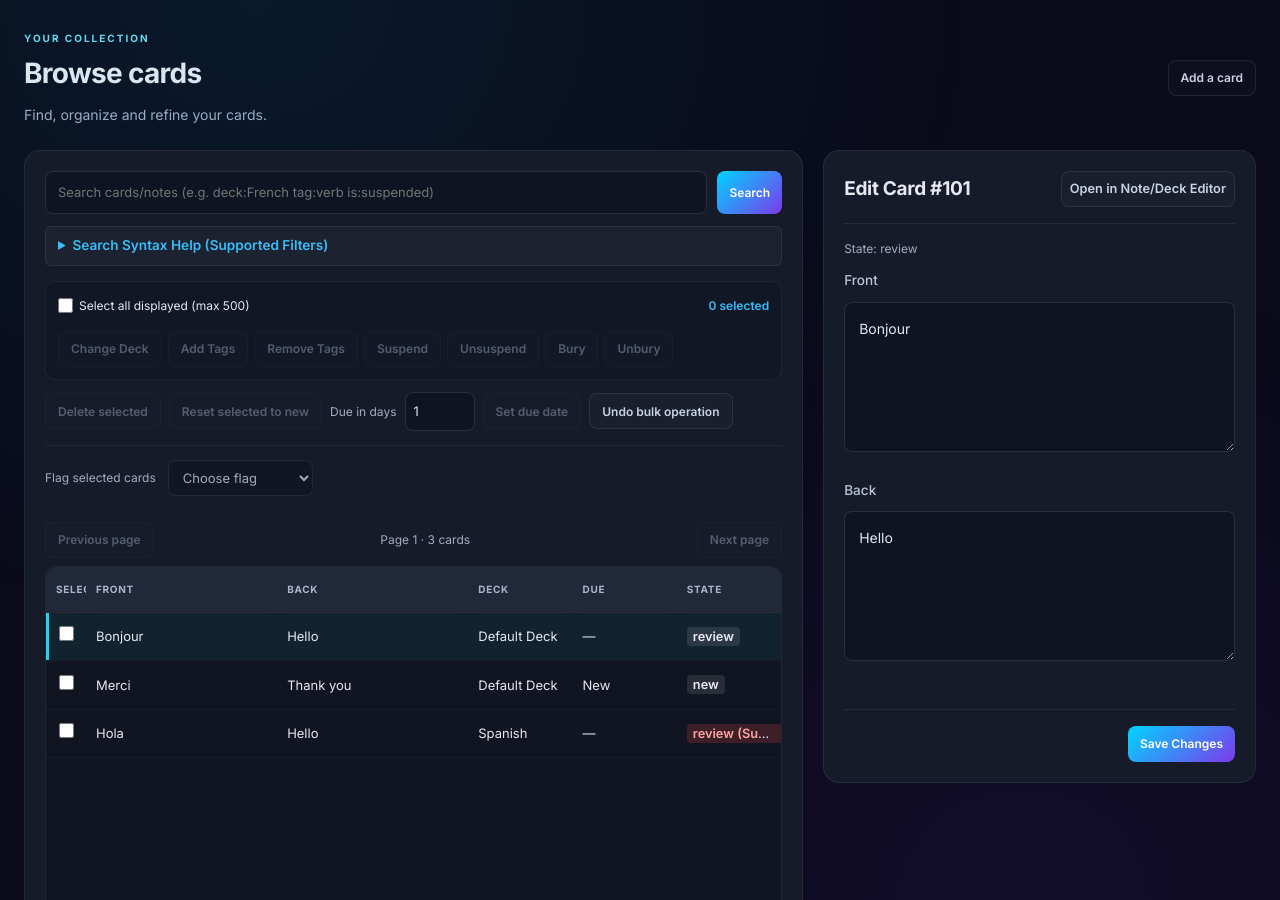
Scenario: BrowsePage › clears selection when a new search is performed
Click the checkbox named "Select card 101". click: [66, 634]
box: [58, 626, 74, 641]
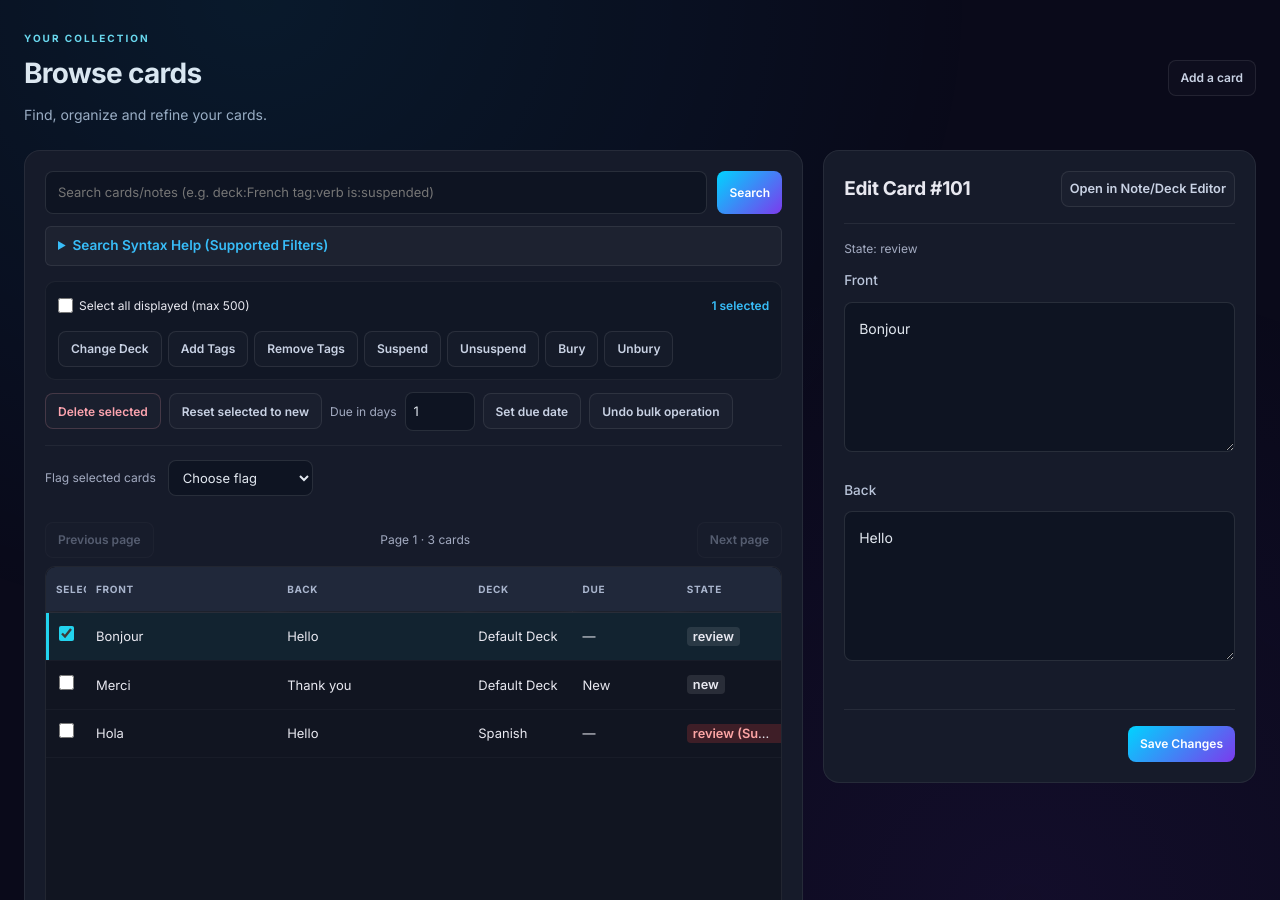
Click the checkbox named "Select card 102". click: [66, 682]
box: [58, 674, 74, 690]
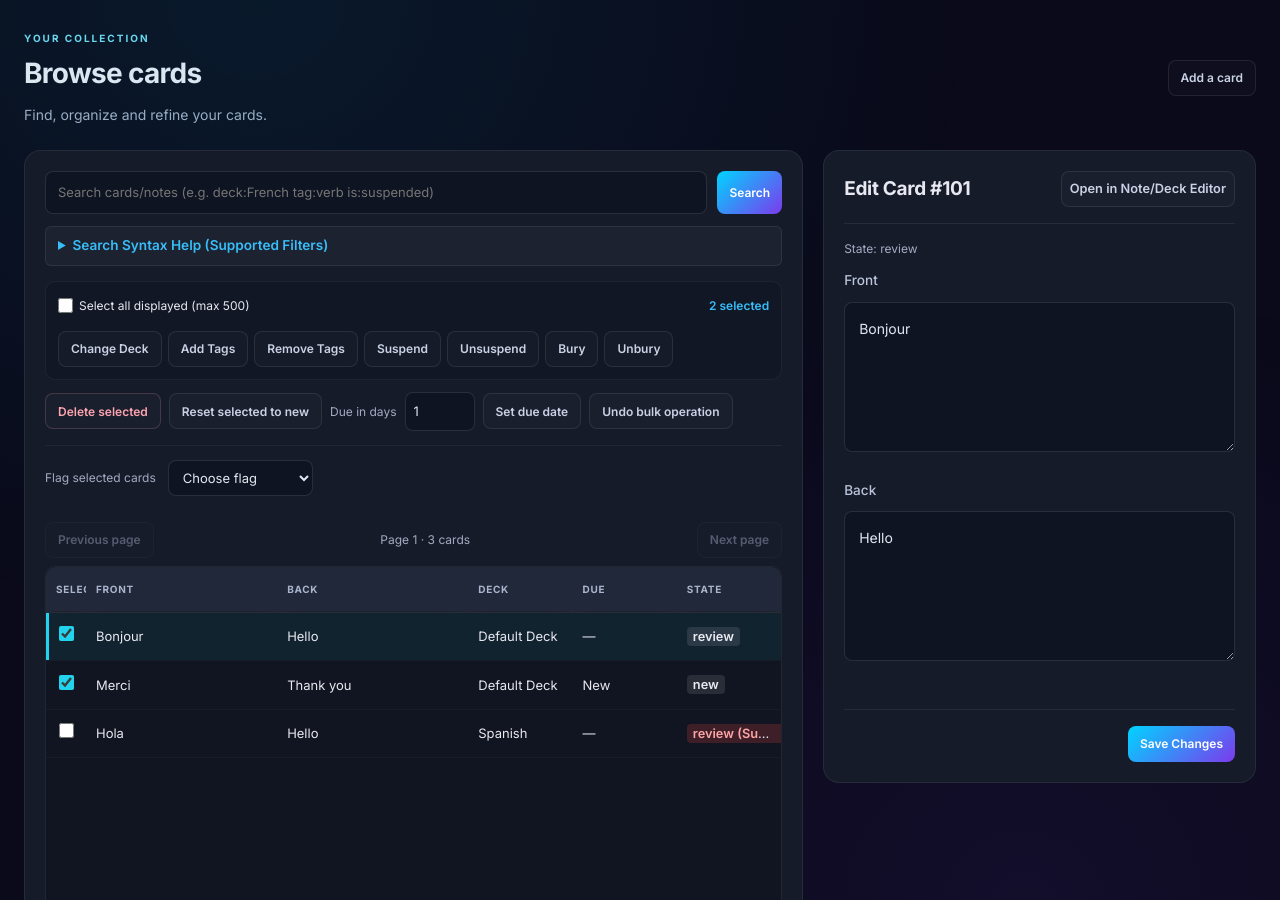
expect the checkbox named "Select card 101" is checked: met, box [58, 626, 74, 641]
expect the checkbox named "Select card 102" is checked: met, box [58, 674, 74, 690]
expect the text with test id "selection-count" reads "2 selected": met, box [709, 296, 769, 315]
Type "tag:verb" into the field named "Search cards query". click: [376, 193]
box: [45, 171, 707, 214]
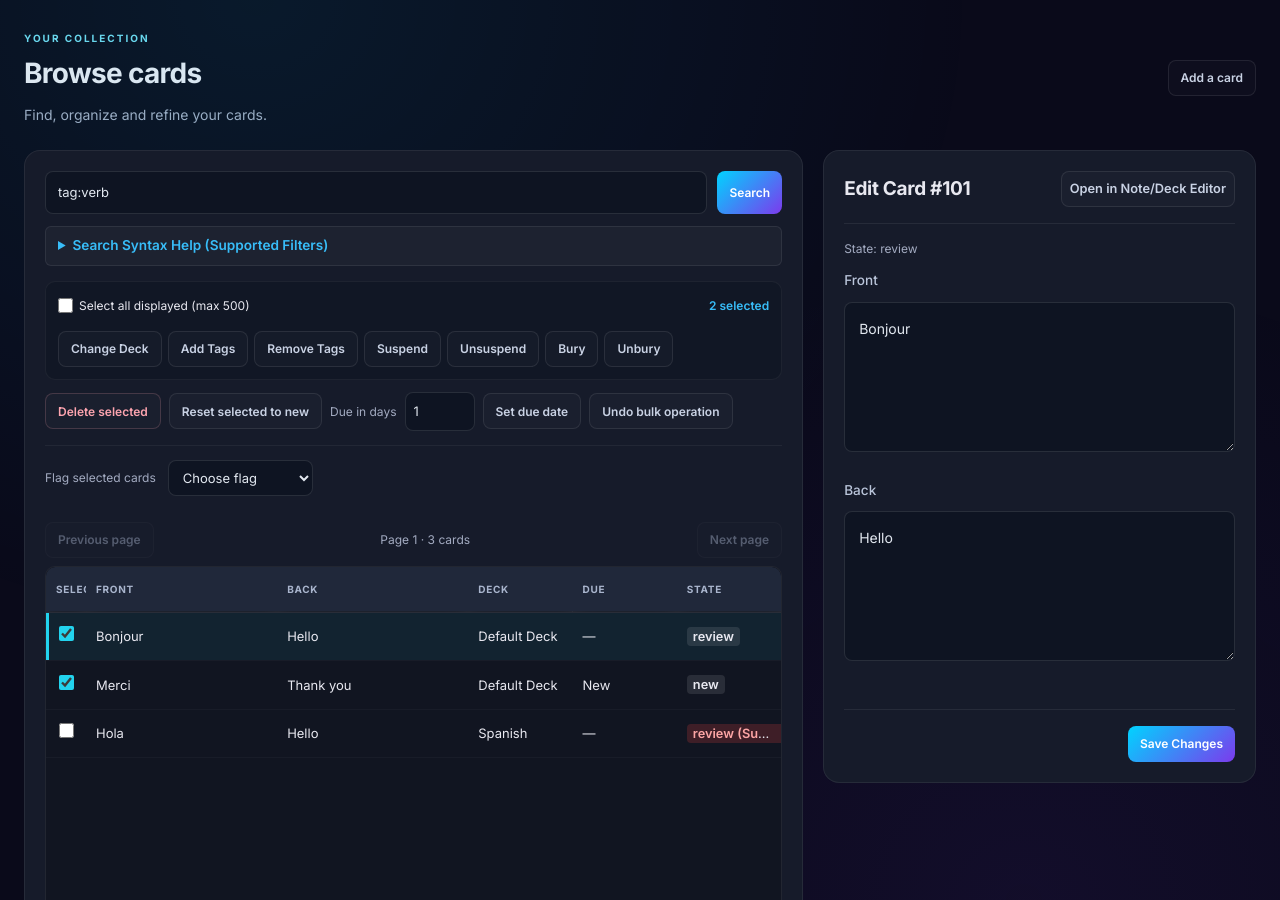
Click the button "Search". click: [750, 193]
box: [717, 171, 782, 214]
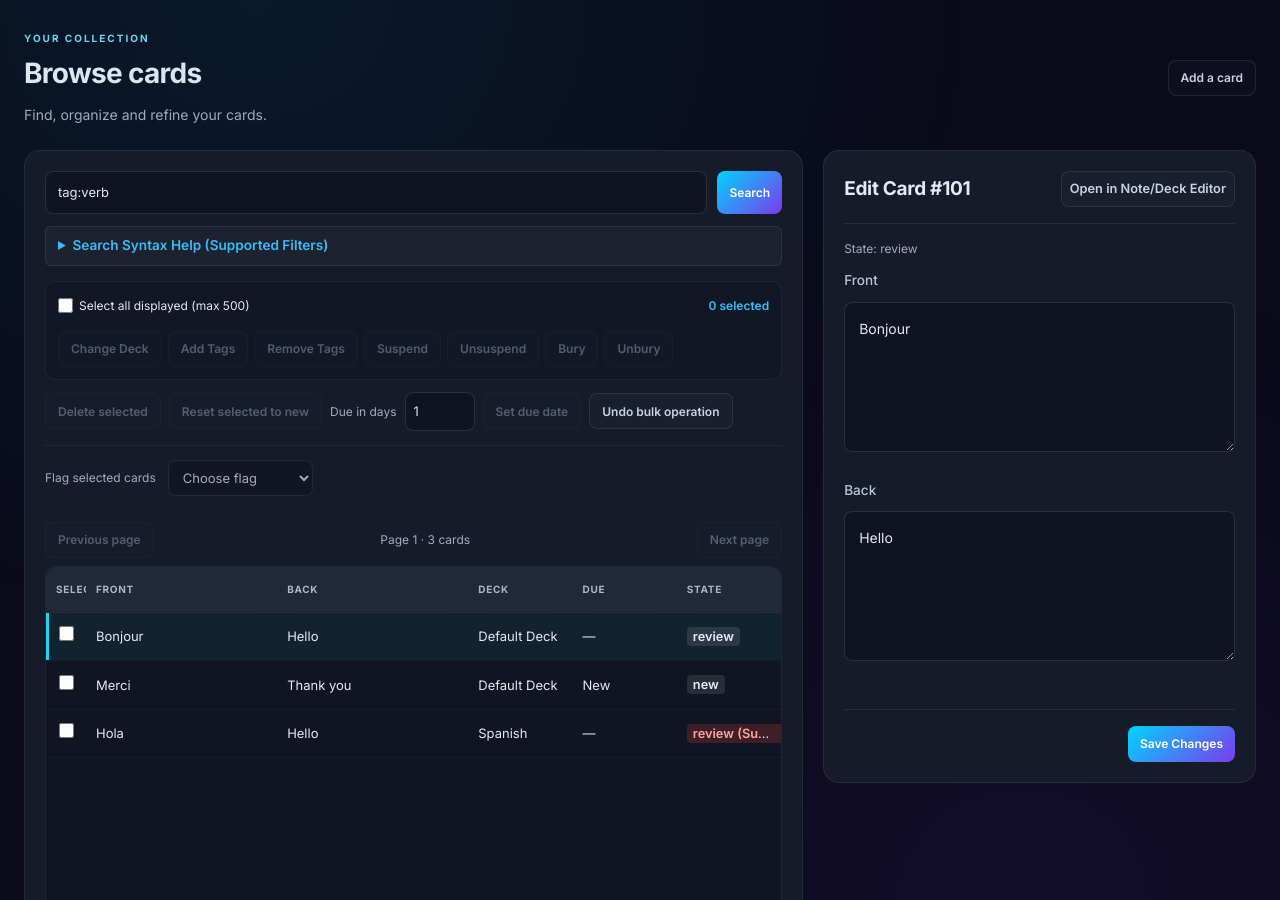
expect the text with test id "selection-count" reads "0 selected": met, box [709, 296, 769, 315]
expect the checkbox named "Select card 101" is not checked: met, box [58, 626, 74, 641]
expect the checkbox named "Select card 102" is not checked: met, box [58, 674, 74, 690]
